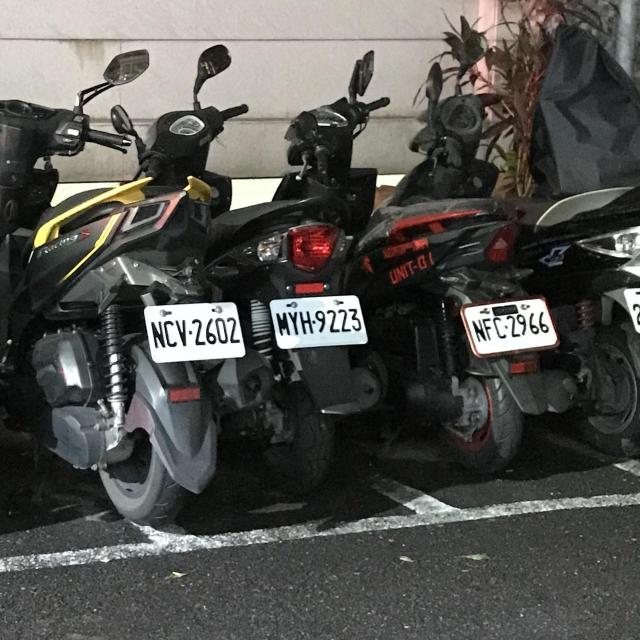W: (140, 297, 248, 365), (458, 292, 560, 360), (266, 289, 371, 352), (620, 276, 640, 336)
